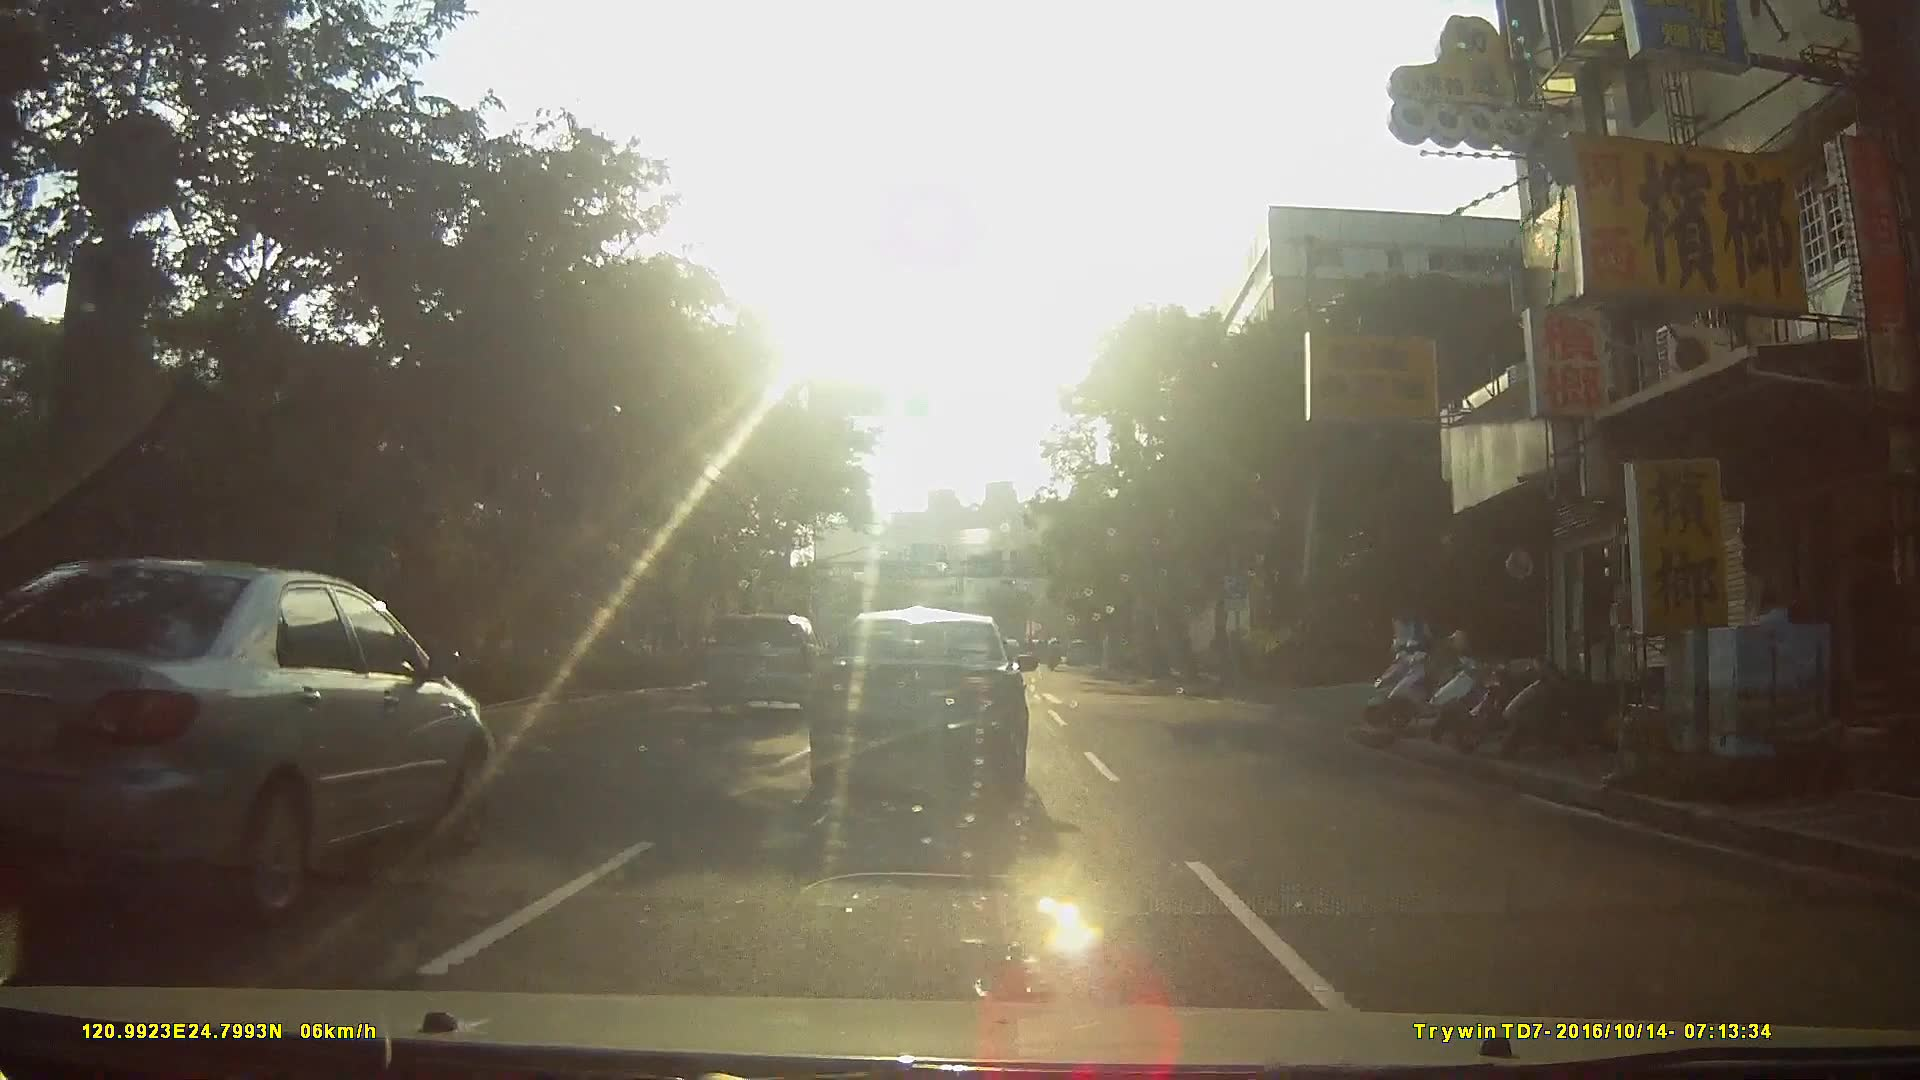pedestrian: (1750, 587, 1815, 745)
vehicle: (0, 560, 518, 915), (816, 607, 1050, 811), (712, 614, 832, 715), (1066, 640, 1101, 672)
